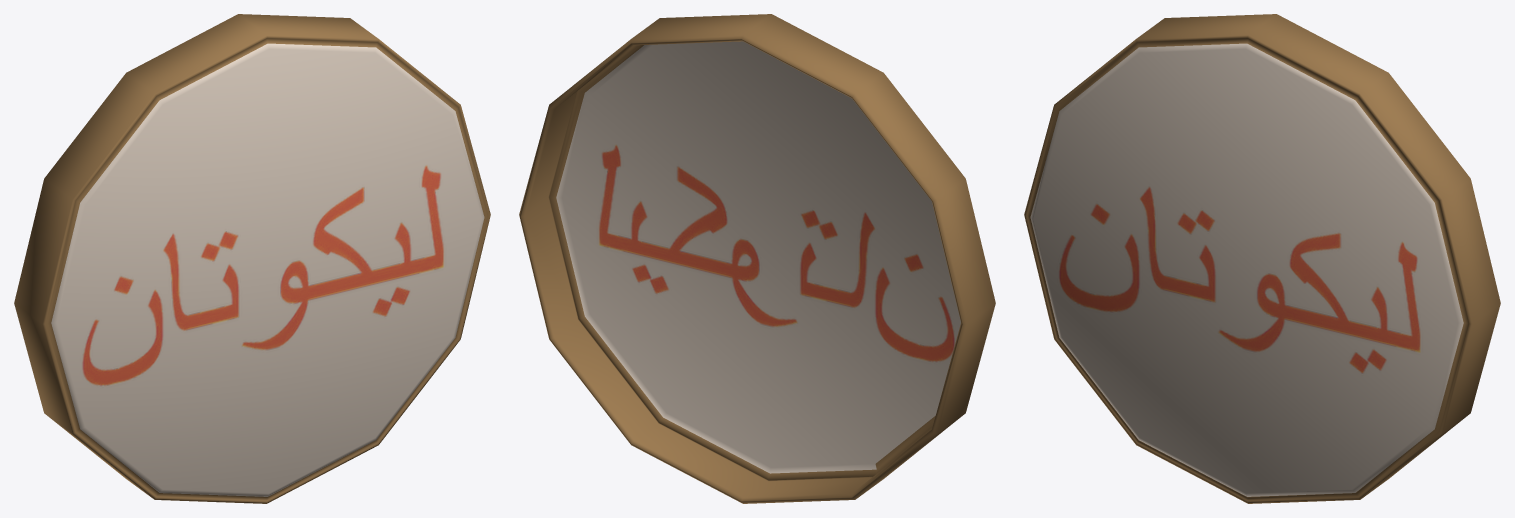
Rendered from Bordado.fbx.
3 renders of one model, left to right at view 1: azimuth 30°, elevation 25°; view 2: azimuth 150°, elevation 25°; view 3: azimuth 330°, elevation 25°, orthographic.
Parts seen in each view (by area): view 1: Bordado; view 2: Bordado; view 3: Bordado.
Boxes of the visible parts, x1,y1,x2,y2 form: Bordado: (14,14,490,503); Bordado: (519,14,995,503); Bordado: (1024,14,1500,503).
Bounding box in the file's own units: 70 × 70 × 8.8.
Materials: 2 (1 with a texture image).
